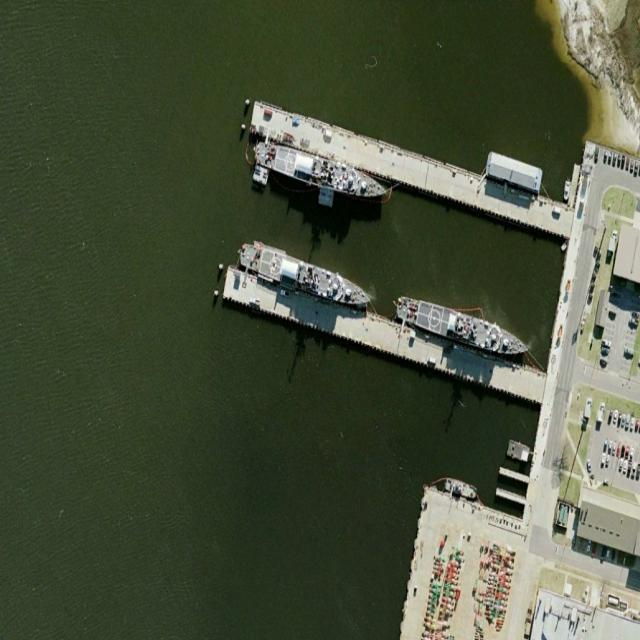Other Warship: (233, 233, 376, 318), (389, 288, 532, 365), (251, 135, 390, 207)
